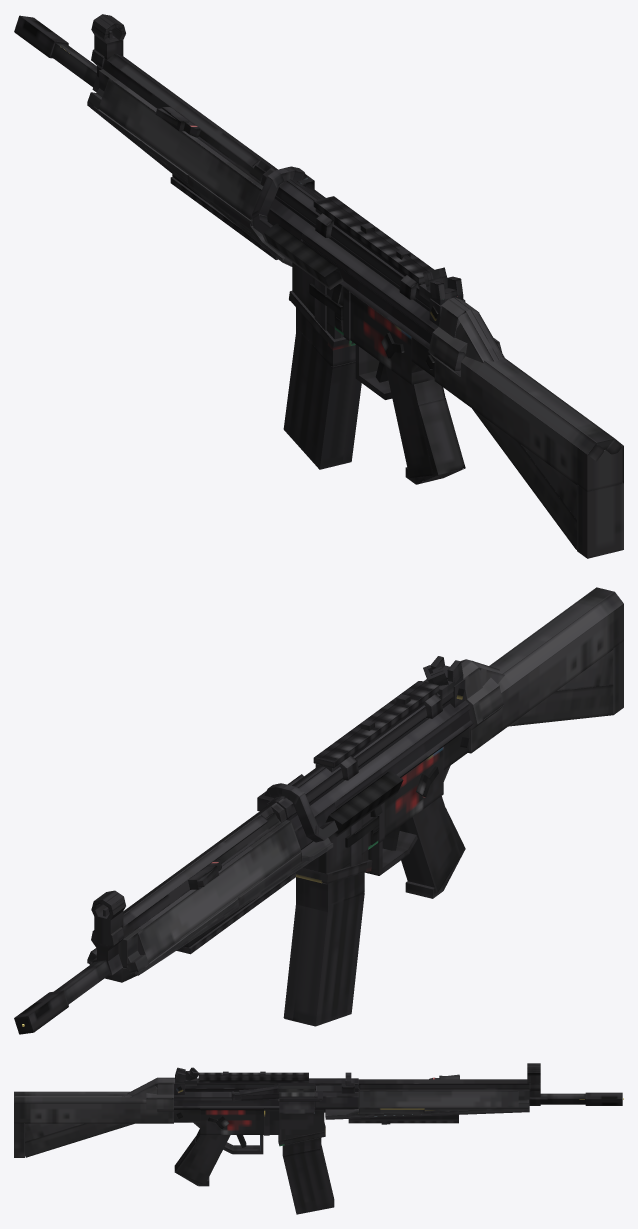
3 views of the same model, one above another, from view 1: azimuth 30°, elevation 25°; view 2: azimuth 150°, elevation 25°; view 3: azimuth 270°, elevation 25° (orthographic). The views are drawn at different scales.
Parts seen in each view (by area): view 1: gun, handguard, magazine, rail, carryhandle, frontsight, underrail; view 2: gun, handguard, magazine, rail, carryhandle, frontsight, underrail; view 3: gun, handguard, magazine, rail, underrail, action, frontsight.
Part boxes in pixels (left/top/right/bottom): gun: left=14, top=15, right=623, bottom=558; handguard: left=87, top=69, right=292, bottom=266; magazine: left=283, top=308, right=361, bottom=469; rail: left=313, top=196, right=434, bottom=299; carryhandle: left=252, top=166, right=343, bottom=289; frontsight: left=91, top=14, right=125, bottom=59; underrail: left=170, top=174, right=278, bottom=259; gun: left=14, top=587, right=623, bottom=1034; handguard: left=87, top=820, right=333, bottom=982; magazine: left=283, top=872, right=364, bottom=1026; rail: left=313, top=681, right=442, bottom=780; carryhandle: left=264, top=771, right=403, bottom=842; frontsight: left=91, top=890, right=125, bottom=946; underrail: left=176, top=872, right=295, bottom=954; gun: left=14, top=1067, right=622, bottom=1186; handguard: left=325, top=1089, right=529, bottom=1119; magazine: left=282, top=1138, right=334, bottom=1214; rail: left=198, top=1072, right=308, bottom=1082; underrail: left=348, top=1115, right=458, bottom=1123; action: left=278, top=1085, right=314, bottom=1096; frontsight: left=527, top=1063, right=540, bottom=1083.
Bounding box in the file's own units: 47.48 × 184 × 691.
